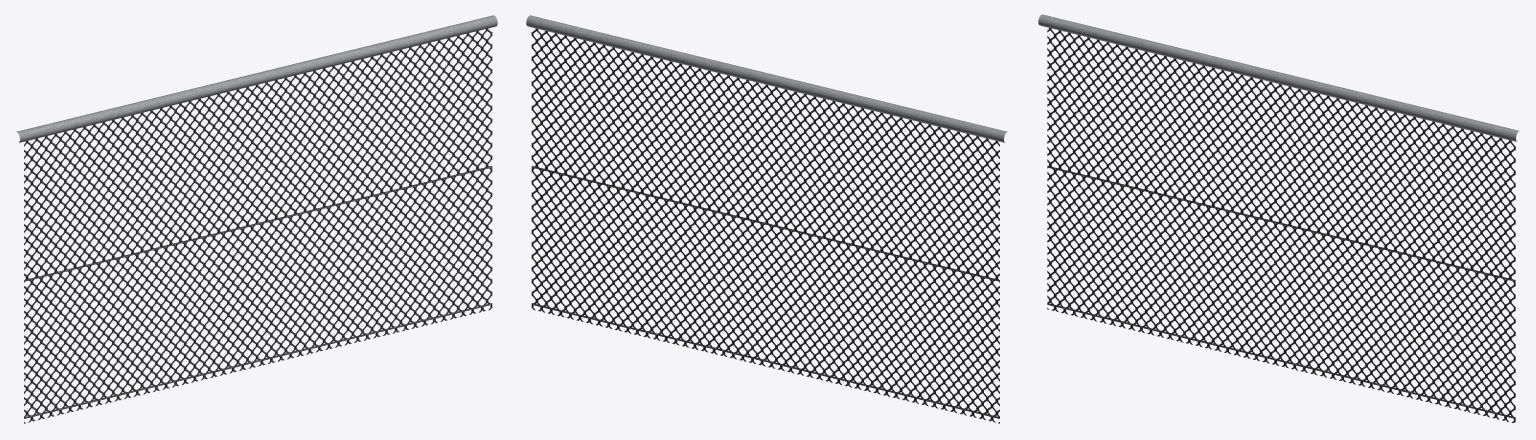
The model's file is fence-tall-chainlink-1rail-noPost-1s-cbj_LOD00.gltf.
3 views of the same model, side by side, from view 1: azimuth 30°, elevation 25°; view 2: azimuth 150°, elevation 25°; view 3: azimuth 330°, elevation 25° (orthographic).
Parts seen in each view (by area): view 1: cube00; view 2: cube00; view 3: cube00.
Part boxes in pixels (x1,y1,x2,y2): cube00: (16,15,497,423); cube00: (526,15,1007,423); cube00: (1038,14,1519,422).
Bounding box in the file's own units: 3.11 × 1.85 × 0.065.
